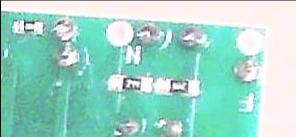chip-resistor: (106, 72, 153, 96), (157, 75, 201, 98), (9, 18, 44, 36)
